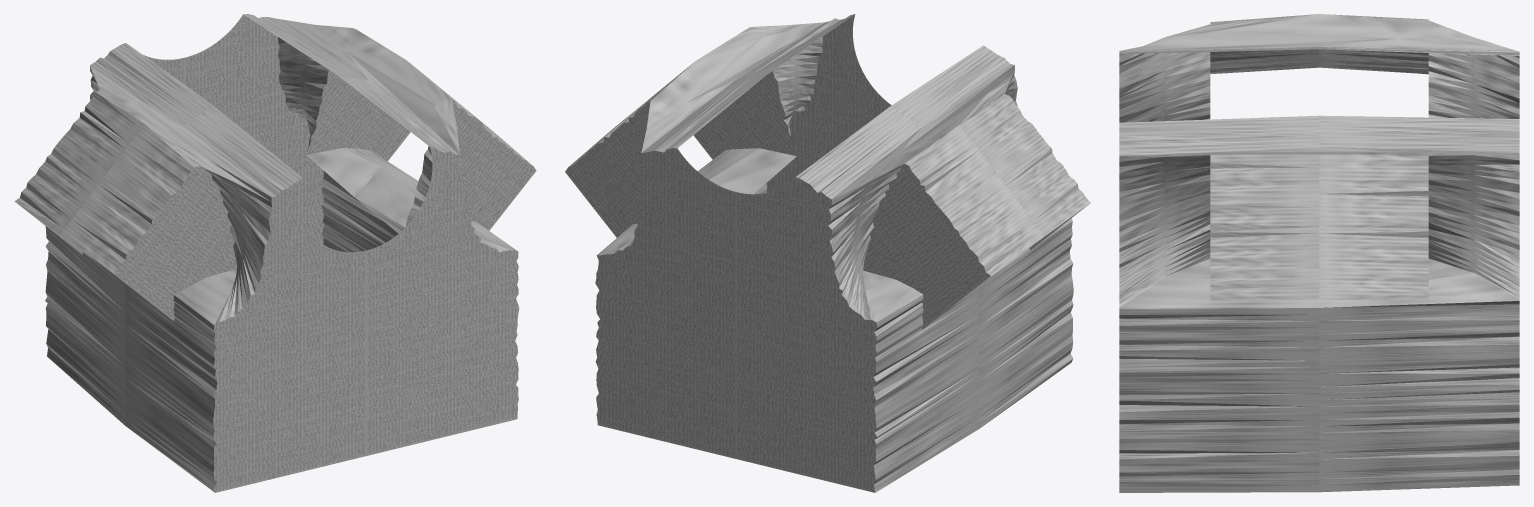
The model's file is baseline_boxmesh.obj.
The picture shows the model from 3 angles, left to right: view 1: azimuth 30°, elevation 25°; view 2: azimuth 150°, elevation 25°; view 3: azimuth 270°, elevation 25°; orthographic projection. The views are drawn at different scales.
Size of the model in its own units: 75.3 by 49.96 by 55.
1 material, 1 textured.
